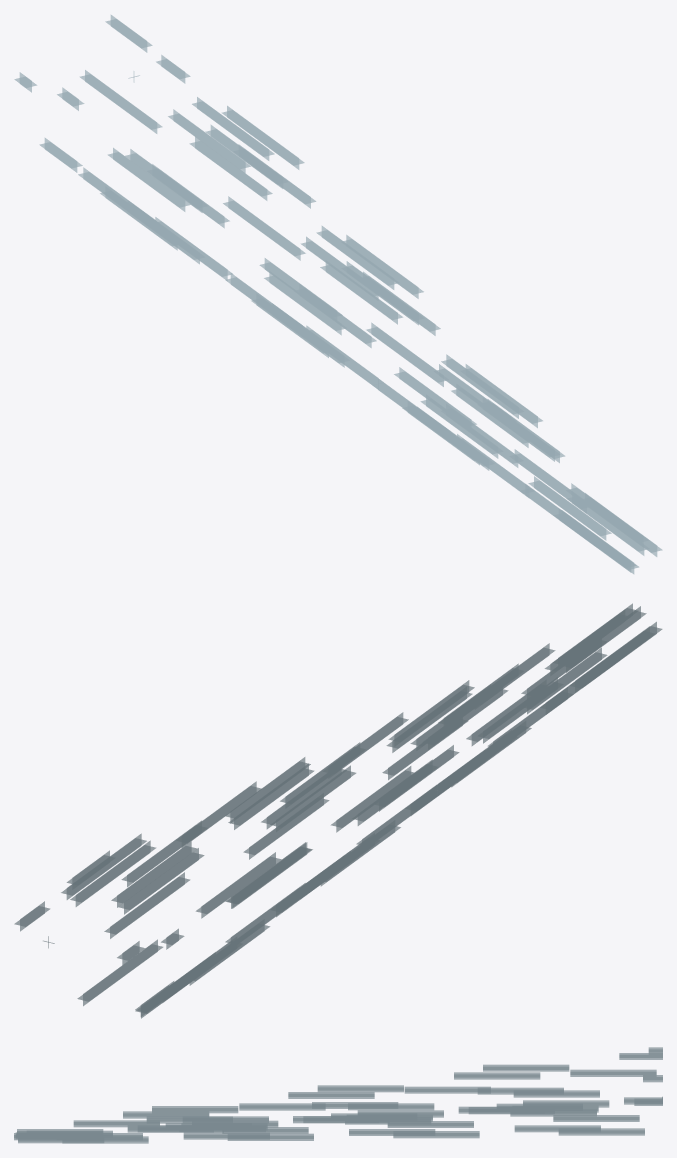
File: wp_water_323.obj
3 renders of one model, top to bottom at view 1: azimuth 30°, elevation 25°; view 2: azimuth 150°, elevation 25°; view 3: azimuth 270°, elevation 25°, orthographic. The views are drawn at different scales.
Bounding box in the file's own units: 0.3125 × 0.2933 × 1.8.
Materials: 1 (1 with a texture image).
